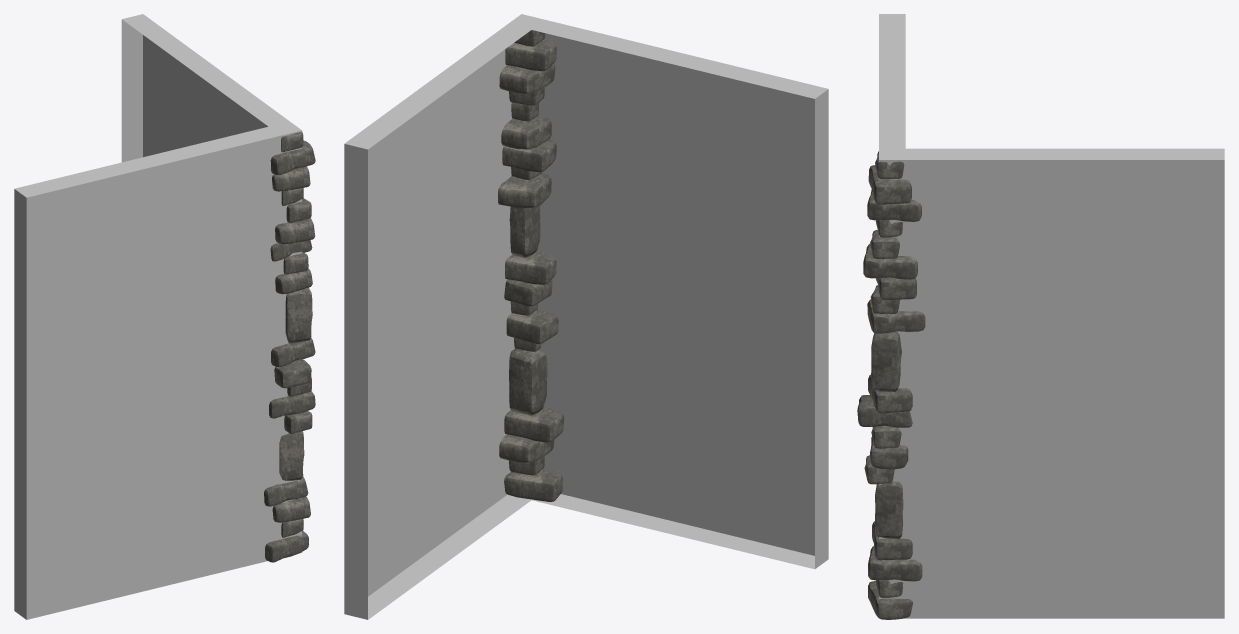
File: StoneWall_Corner.fbx
3 views of the same model, side by side, from view 1: azimuth 30°, elevation 25°; view 2: azimuth 150°, elevation 25°; view 3: azimuth 270°, elevation 25° (orthographic). The views are drawn at different scales.
Visible parts, largest first — view 1: SM_StoneWallCorner; view 2: SM_StoneWallCorner; view 3: SM_StoneWallCorner.
Boxes of the visible parts, <box> form: SM_StoneWallCorner: <box>14,14,315,619</box>; SM_StoneWallCorner: <box>344,14,828,619</box>; SM_StoneWallCorner: <box>857,14,1224,619</box>.
Bounding box in the file's own units: 271 × 378 × 274.
